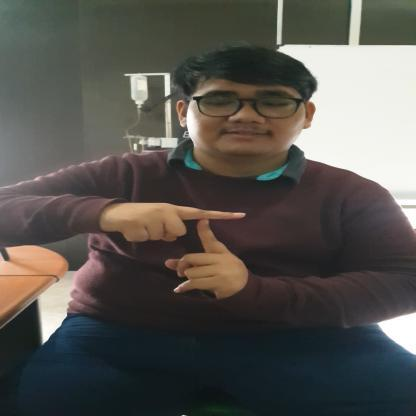T: (110, 200, 250, 297)
